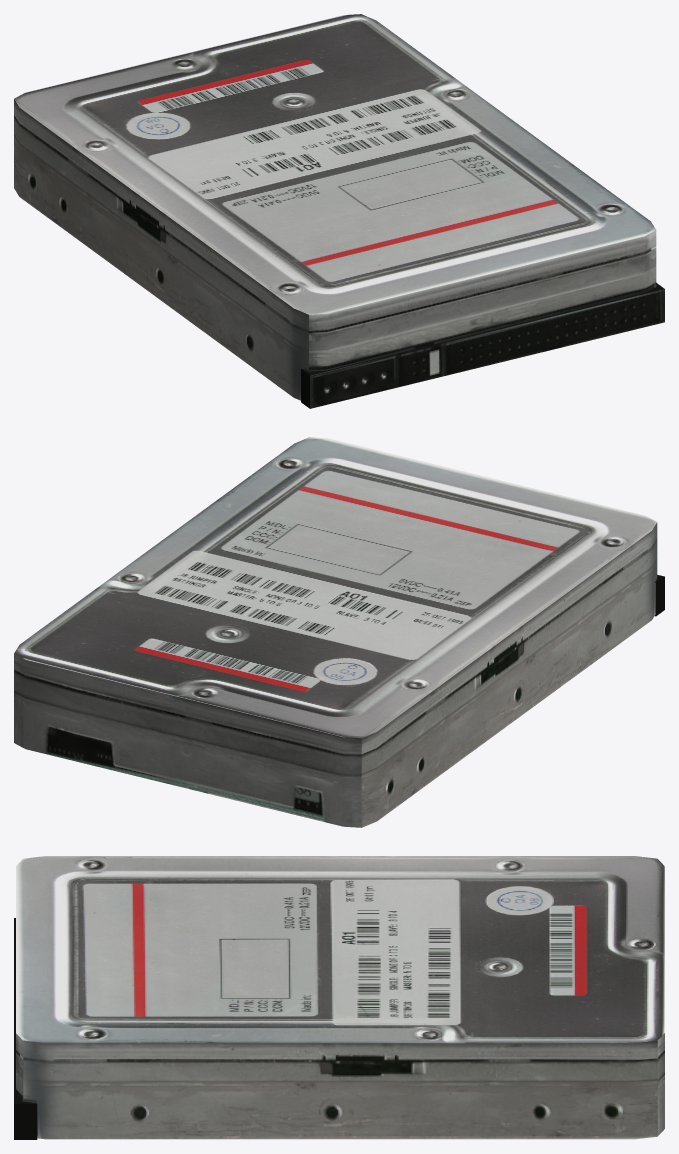
Rendered from harddisk.fbx.
3 views of the same model, one above another, from view 1: azimuth 30°, elevation 25°; view 2: azimuth 150°, elevation 25°; view 3: azimuth 270°, elevation 25° (orthographic). The views are drawn at different scales.
Visible parts, largest first — view 1: Hard Disk; view 2: Hard Disk; view 3: Hard Disk.
Part boxes in pixels (left/top/right/bottom): Hard Disk: left=14, top=14, right=664, bottom=408; Hard Disk: left=14, top=437, right=664, bottom=827; Hard Disk: left=14, top=856, right=664, bottom=1139.
Size of the model in its own units: 206 by 49.8 by 303.
Materials: 1 (1 with a texture image).
